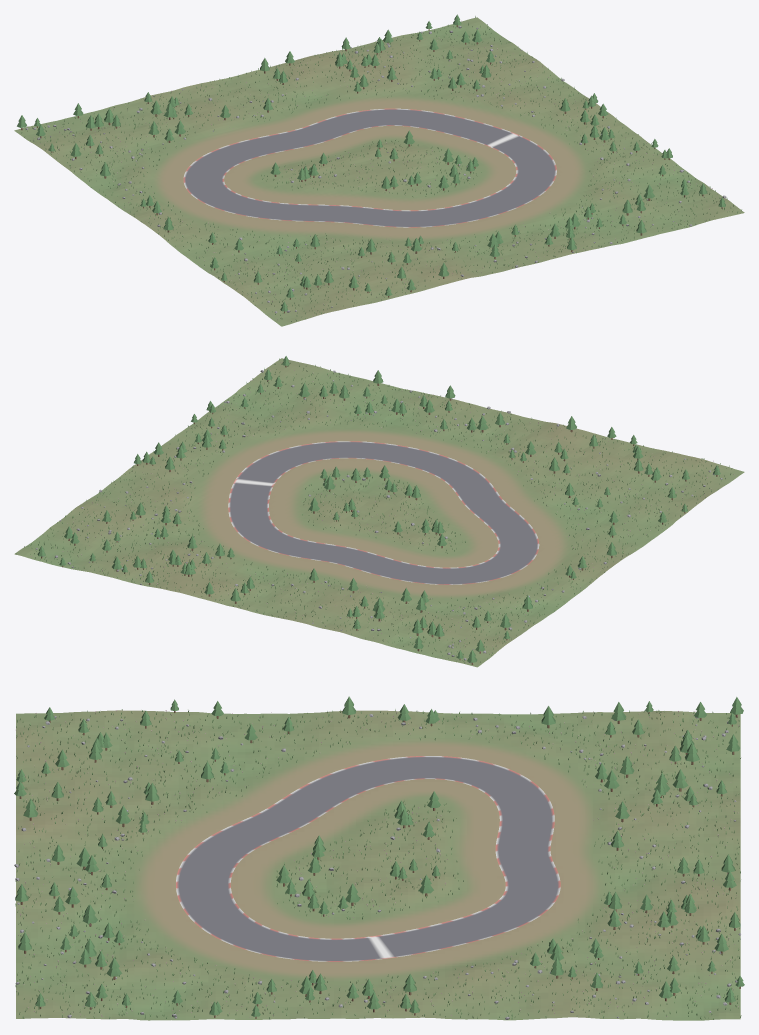
The model's file is kart_meadow.glb.
3 renders of one model, top to bottom at view 1: azimuth 30°, elevation 25°; view 2: azimuth 150°, elevation 25°; view 3: azimuth 270°, elevation 25°, orthographic. The views are drawn at different scales.
Parts seen in each view (by area): view 1: kart_meadow_terrain, kart_meadow_track; view 2: kart_meadow_terrain, kart_meadow_track; view 3: kart_meadow_terrain, kart_meadow_track.
Part boxes in pixels (bbox=[...]): kart_meadow_terrain: bbox=[14, 14, 744, 326]; kart_meadow_track: bbox=[183, 108, 556, 227]; kart_meadow_terrain: bbox=[14, 356, 744, 667]; kart_meadow_track: bbox=[228, 441, 539, 584]; kart_meadow_terrain: bbox=[14, 696, 744, 1020]; kart_meadow_track: bbox=[176, 756, 560, 961].
Bounding box in the file's own units: 120 × 5.05 × 120.
